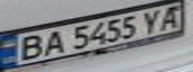4: (87, 19, 112, 46)
5: (66, 22, 93, 51), (118, 12, 145, 39), (103, 17, 127, 43)
A: (36, 28, 69, 57), (154, 3, 184, 30)
B: (9, 33, 48, 62)
Y: (136, 8, 169, 34)
